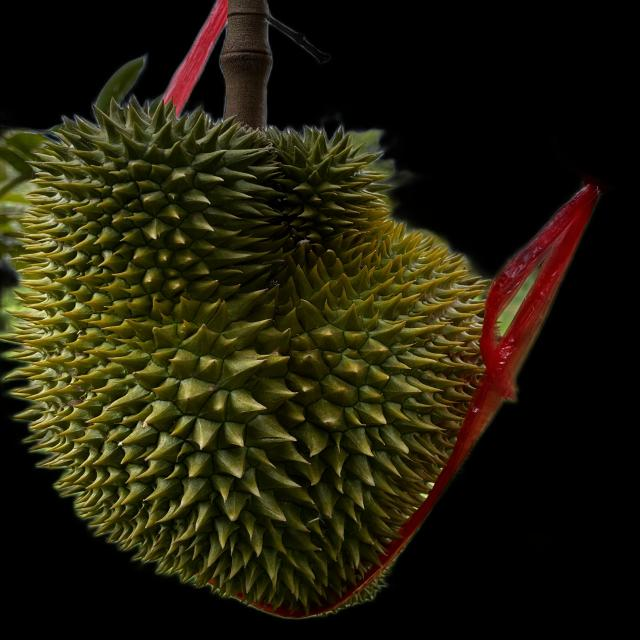immature: (0, 96, 463, 612)
